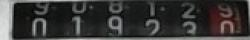digits: (106, 15, 123, 35), (31, 16, 46, 36), (70, 15, 84, 35), (180, 1, 196, 18), (144, 18, 160, 34), (219, 19, 233, 33)
